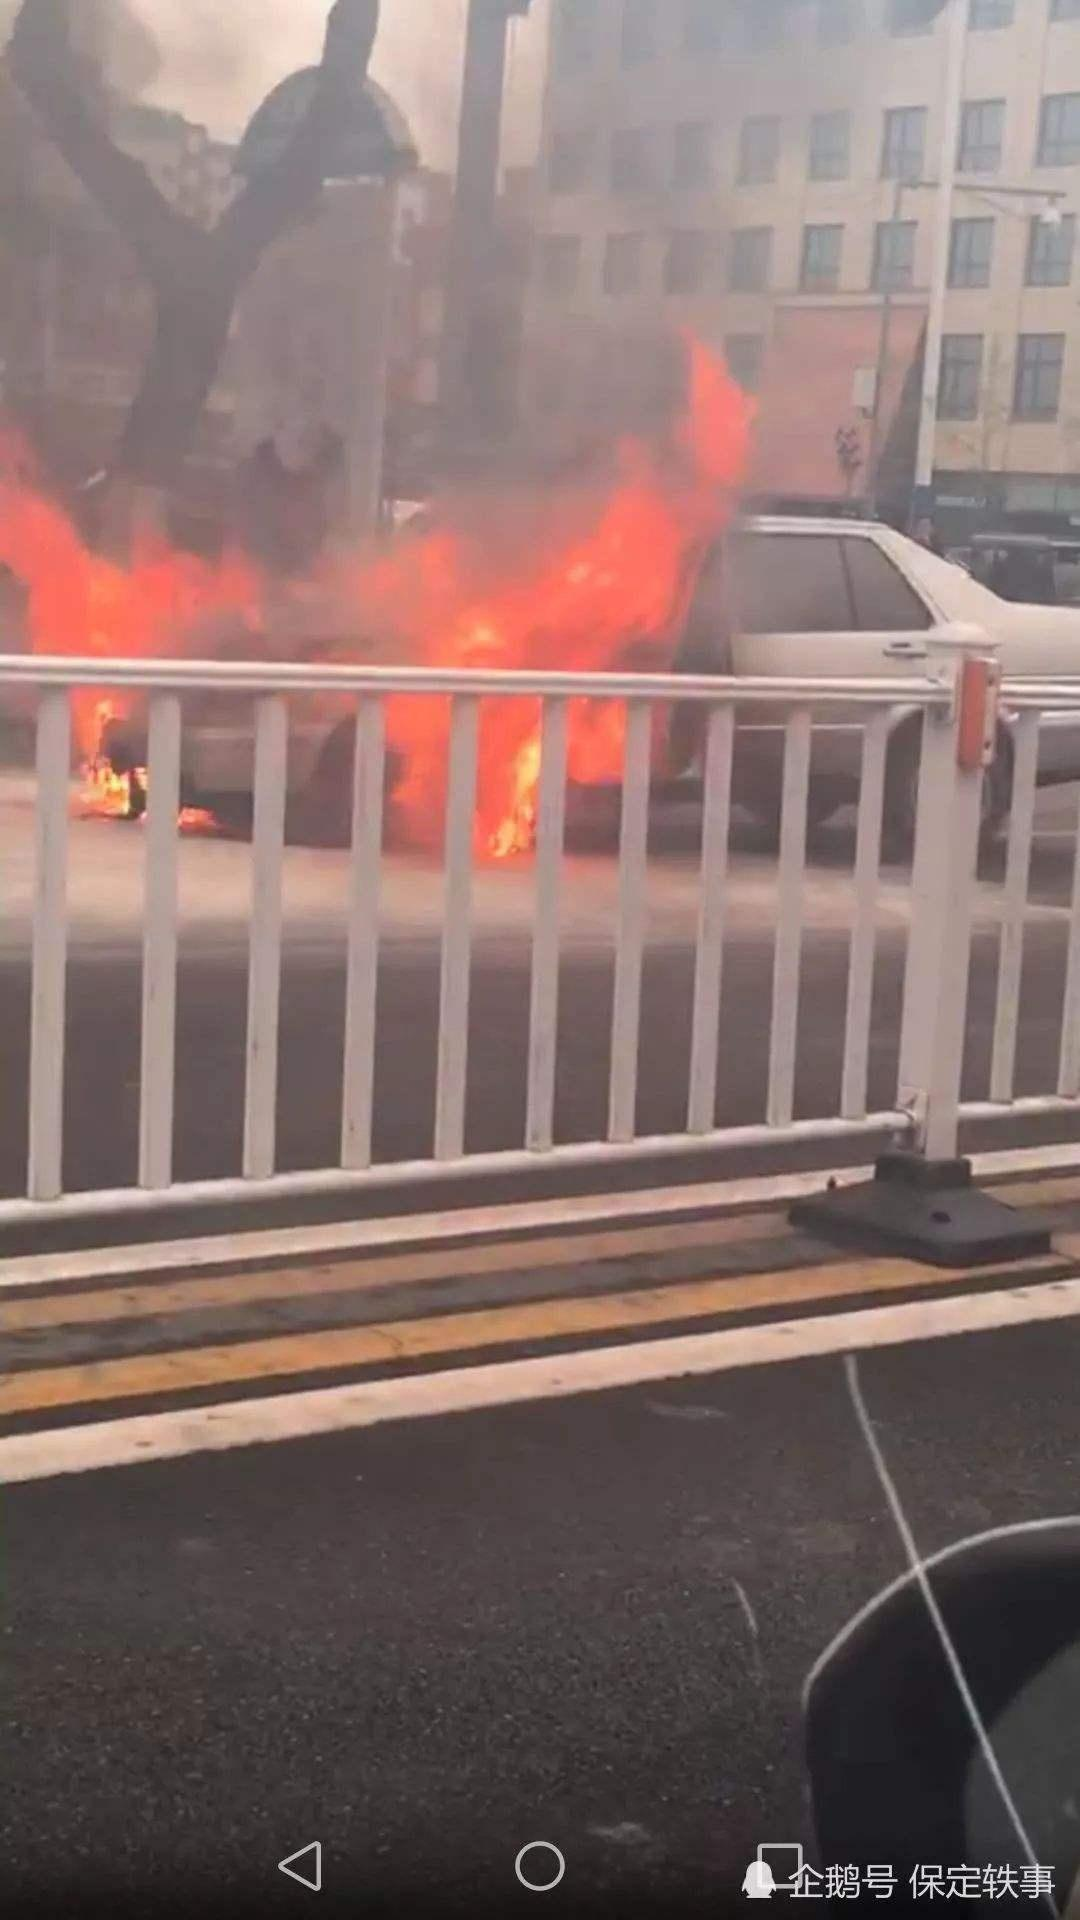fire: (330, 294, 770, 862), (7, 425, 280, 841)
